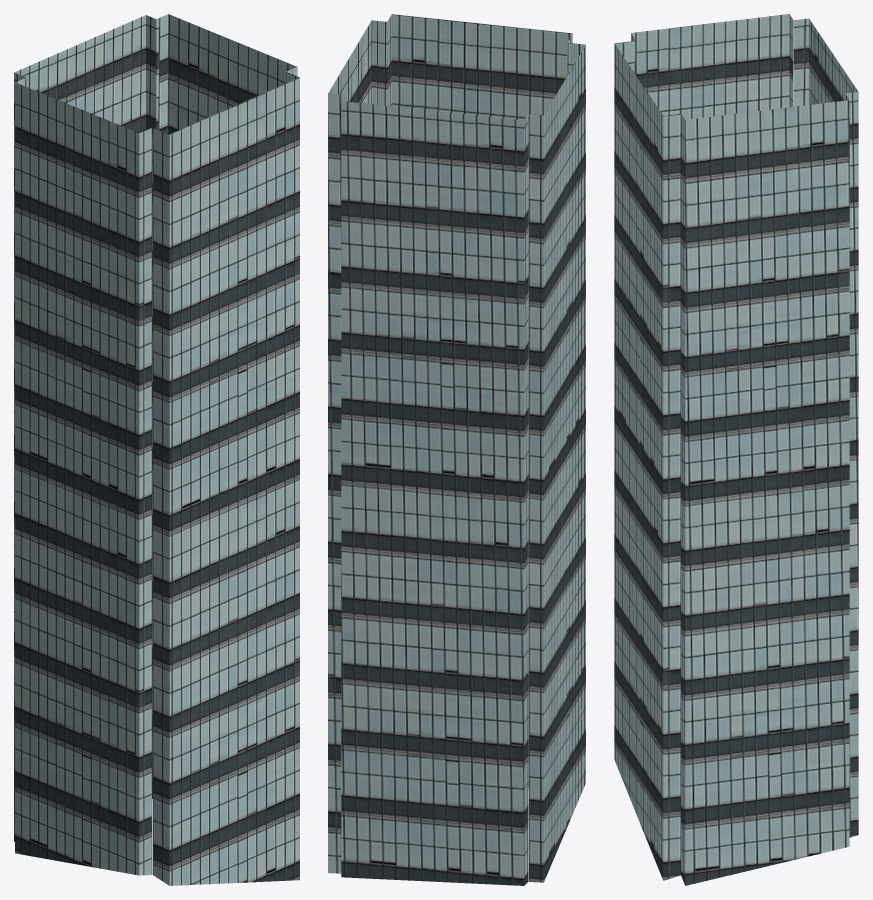
The model's file is building_002.fbx.
3 views of the same model, side by side, from view 1: azimuth 30°, elevation 25°; view 2: azimuth 150°, elevation 25°; view 3: azimuth 270°, elevation 25° (orthographic). The views are drawn at different scales.
Visible parts, largest first — view 1: Areas:building.002; view 2: Areas:building.002; view 3: Areas:building.002.
Boxes of the visible parts, bbox=[...] form: Areas:building.002: bbox=[14, 14, 299, 885]; Areas:building.002: bbox=[328, 14, 585, 885]; Areas:building.002: bbox=[614, 14, 858, 885].
Bounding box in the file's own units: 770 × 2598 × 750.
